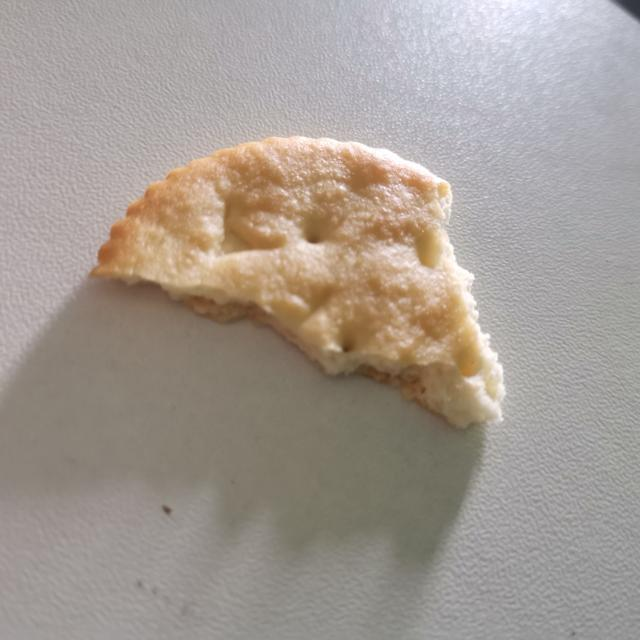Broken: (89, 134, 506, 430)
